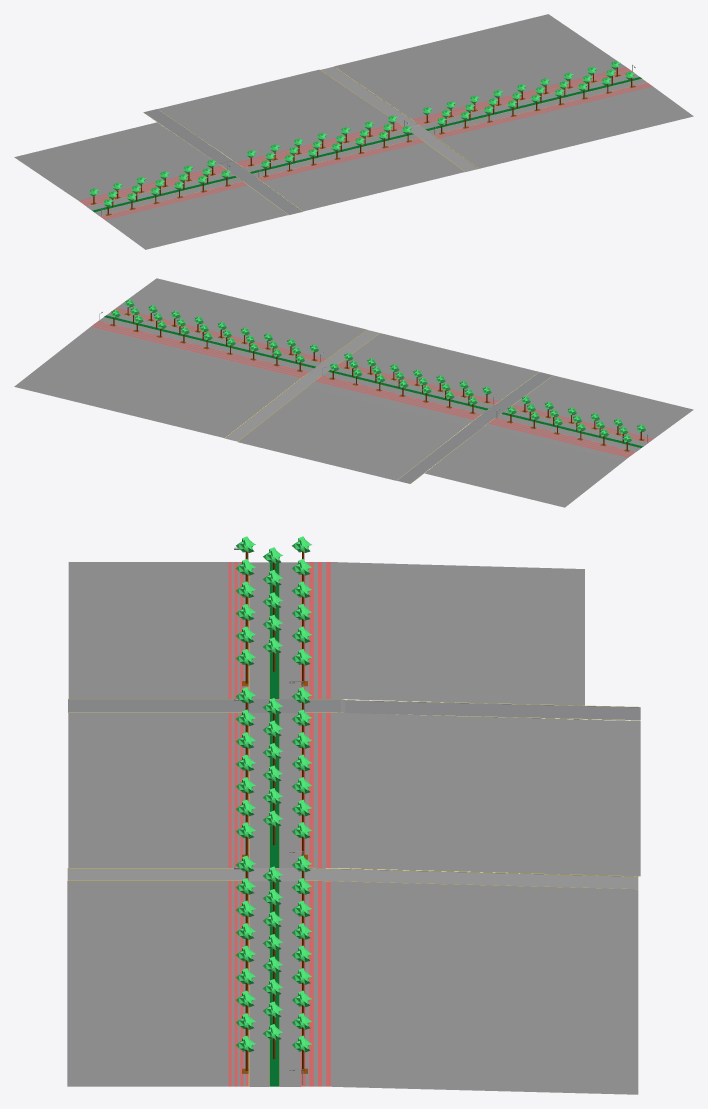
File: calle_sincol.glb
The picture shows the model from 3 angles, top to bottom: view 1: azimuth 30°, elevation 25°; view 2: azimuth 150°, elevation 25°; view 3: azimuth 270°, elevation 25°; orthographic projection. The views are drawn at different scales.
Parts seen in each view (by area): view 1: Cuadra2, Cuadra3, Cuadra1, Calle1, Calle2, C1E3, CE3, C2E3, C1E2, CE2, C2E2; view 2: Cuadra2, Cuadra3, Cuadra1, Calle1, Calle2, C1E3, CE3, C2E3, C1E2, CE2, C2E2, CE1 (+1 smaller); view 3: Cuadra2, Cuadra3, Cuadra1, Calle1, Calle2, C1E3, CE3, C2E3, C1E2, CE2, CE1, C1E1 (+2 smaller).
Boxes of the visible parts, bbox=[...] form: Cuadra2: bbox=[334, 14, 693, 168]; Cuadra3: bbox=[158, 69, 464, 211]; Cuadra1: bbox=[14, 122, 288, 249]; Calle1: bbox=[143, 109, 302, 214]; Calle2: bbox=[320, 66, 478, 171]; C1E3: bbox=[423, 61, 620, 115]; CE3: bbox=[437, 71, 634, 125]; C2E3: bbox=[441, 69, 615, 118]; C1E2: bbox=[247, 115, 397, 158]; CE2: bbox=[261, 126, 411, 168]; C2E2: bbox=[265, 124, 392, 160]; Cuadra2: bbox=[14, 278, 366, 437]; Cuadra3: bbox=[238, 333, 538, 480]; Cuadra1: bbox=[425, 375, 693, 507]; Calle1: bbox=[397, 372, 552, 483]; Calle2: bbox=[224, 329, 380, 441]; C1E3: bbox=[111, 309, 304, 362]; CE3: bbox=[125, 299, 318, 352]; C2E3: bbox=[130, 307, 301, 354]; C1E2: bbox=[330, 363, 477, 404]; CE2: bbox=[344, 352, 491, 394]; C2E2: bbox=[349, 360, 473, 396]; CE1: bbox=[521, 396, 645, 432]; Cuadra2: bbox=[67, 881, 638, 1094]; Cuadra3: bbox=[68, 712, 640, 876]; Cuadra1: bbox=[68, 562, 584, 705]; Calle1: bbox=[68, 699, 640, 720]; Calle2: bbox=[67, 867, 638, 889]; C1E3: bbox=[292, 855, 311, 1052]; CE3: bbox=[236, 855, 255, 1052]; C2E3: bbox=[263, 866, 282, 1040]; C1E2: bbox=[292, 687, 312, 838]; CE2: bbox=[236, 687, 255, 838]; CE1: bbox=[235, 536, 255, 665]; C1E1: bbox=[292, 536, 311, 665].
Size of what is drawn, in the model's own units: 230 by 8.14 by 106.
